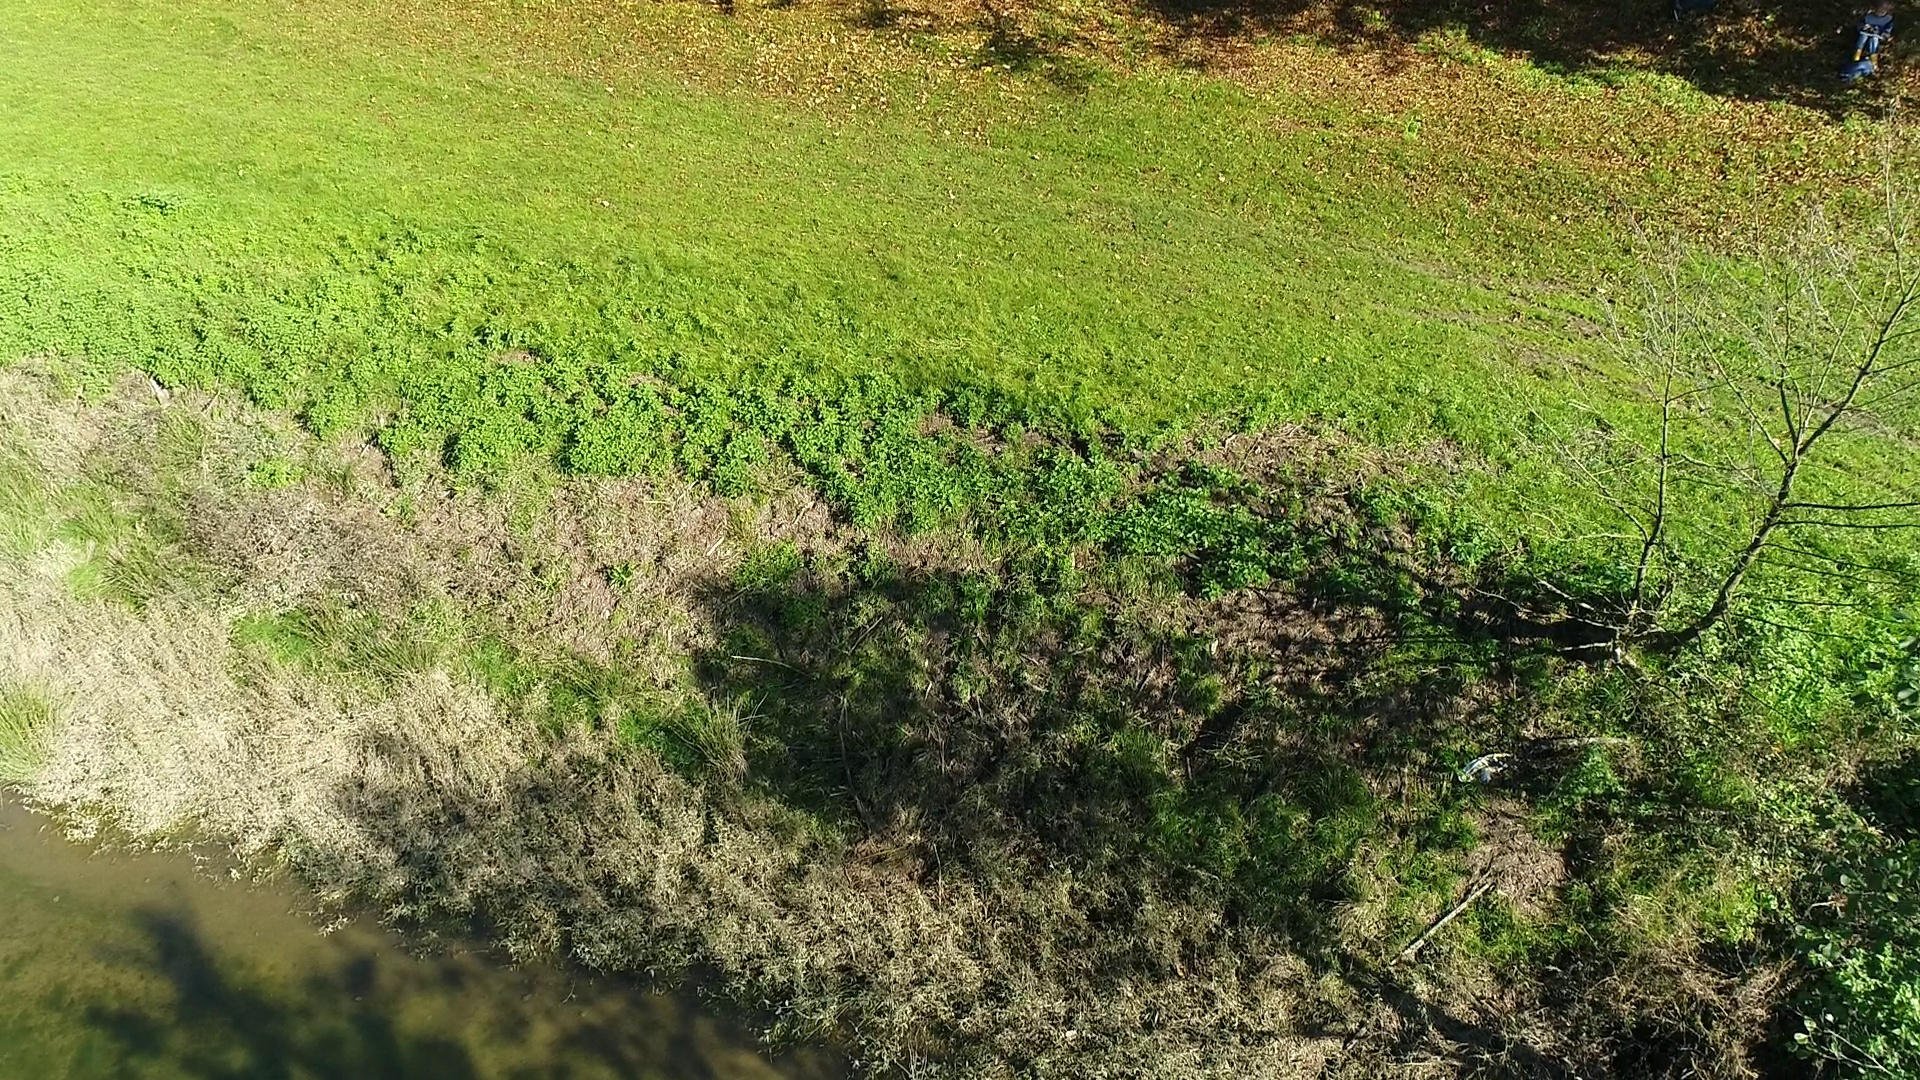person: (1854, 1, 1894, 72)
